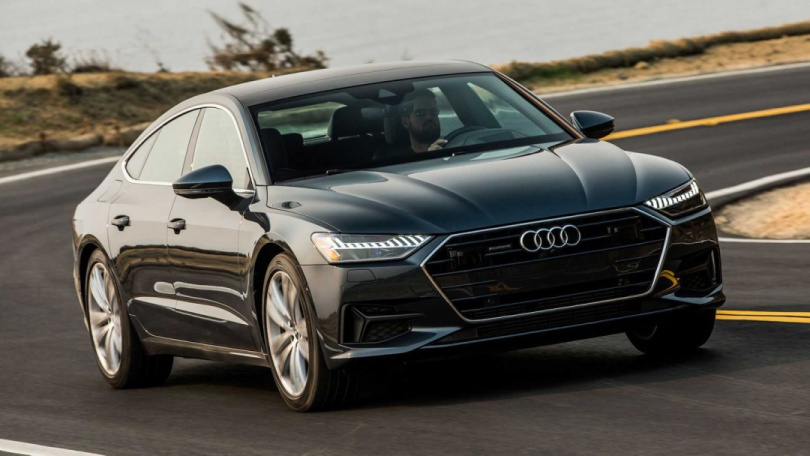audi: (509, 223, 590, 256)
